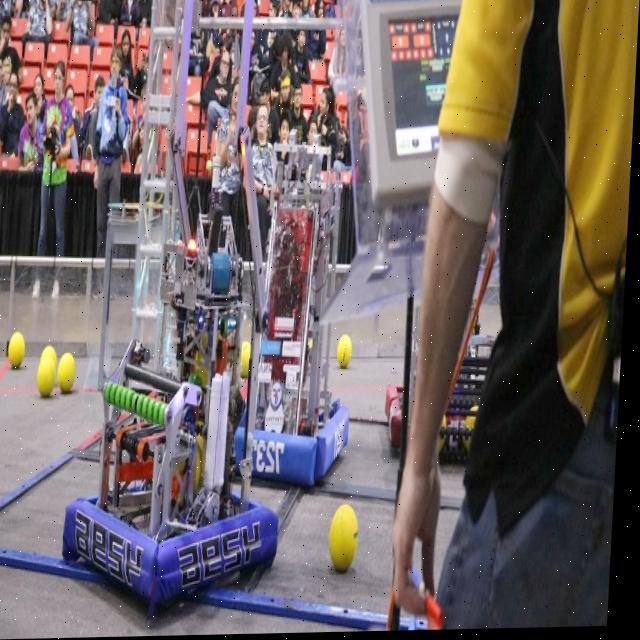robot: (62, 196, 299, 606), (235, 132, 367, 490), (381, 240, 510, 459)
